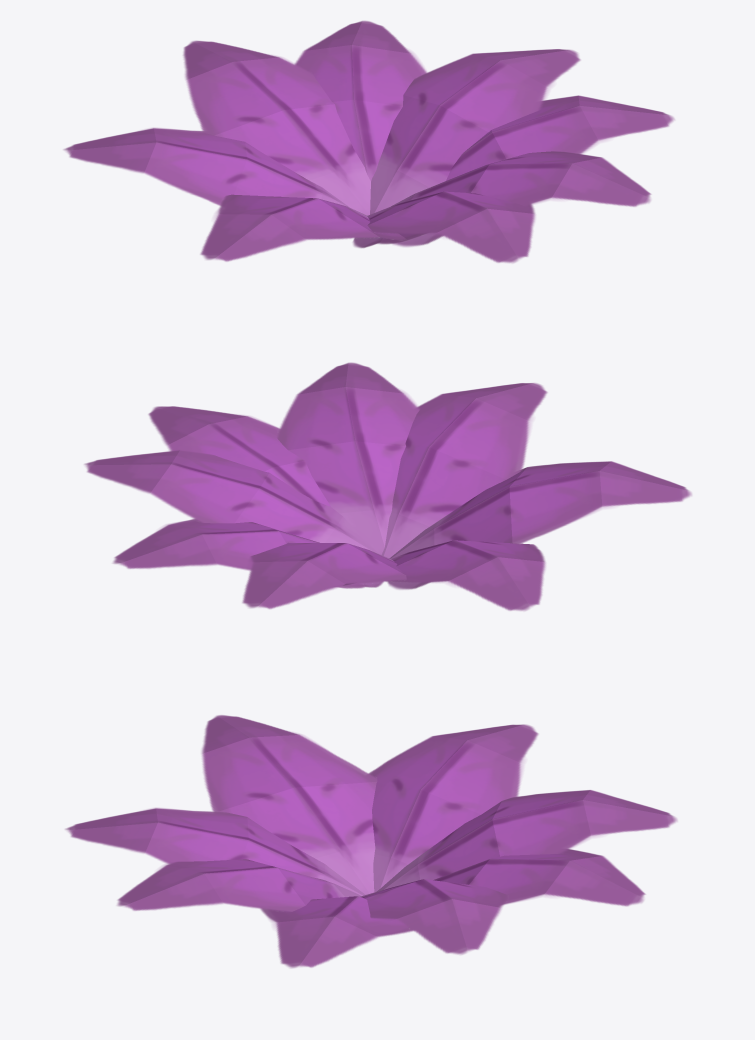
The model's file is Plant003.glb.
3 views of the same model, one above another, from view 1: azimuth 30°, elevation 25°; view 2: azimuth 150°, elevation 25°; view 3: azimuth 270°, elevation 25° (orthographic).
Parts seen in each view (by area): view 1: Plane.005; view 2: Plane.005; view 3: Plane.005.
Part boxes in pixels (x1,y1,x2,y2): Plane.005: (63,20,674,263); Plane.005: (84,362,692,610); Plane.005: (65,715,677,968).
Bounding box in the file's own units: 0.3122 × 0.0545 × 0.3031.
Materials: 1 (1 with a texture image).
